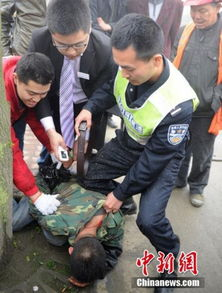fall: (28, 130, 126, 289)
